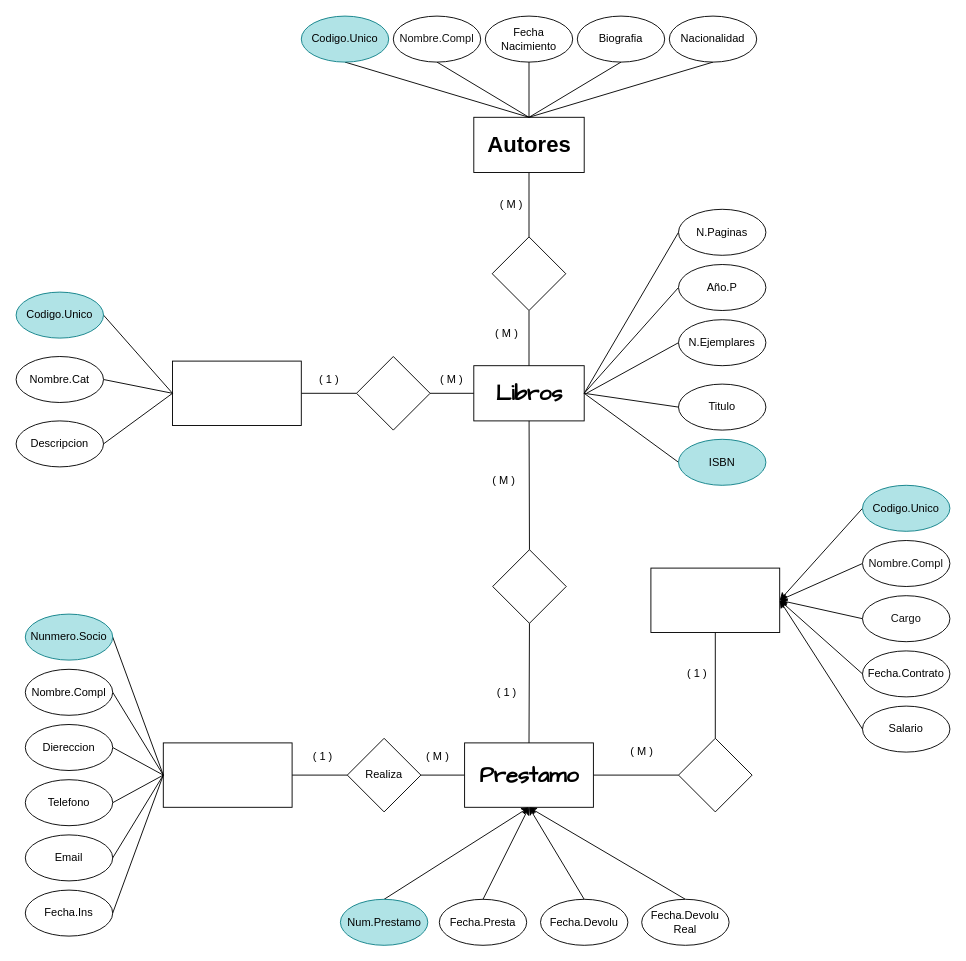
This 966x961 diagram has some shape labels left out. The shapes that lost their labels are listed below. From the top down, each one's box as (x1, y1, x2, y2) in pixels, then its label:
(491, 236, 566, 310): Escribe
(172, 360, 301, 426): Categorias
(356, 356, 430, 430): Tiene
(492, 549, 566, 623): Contiene
(650, 567, 780, 632): Empleado
(162, 742, 292, 807): Socios
(678, 737, 752, 812): Gestiona
